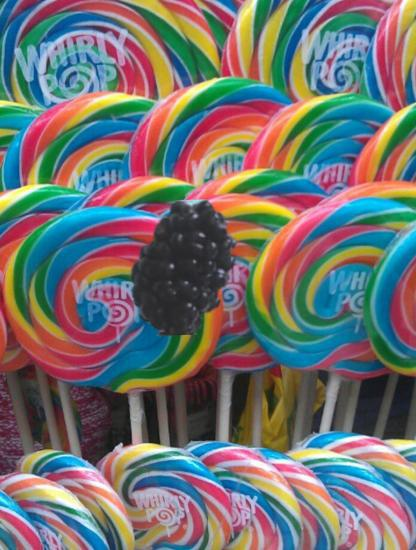Mulberry: (116, 200, 252, 336)
